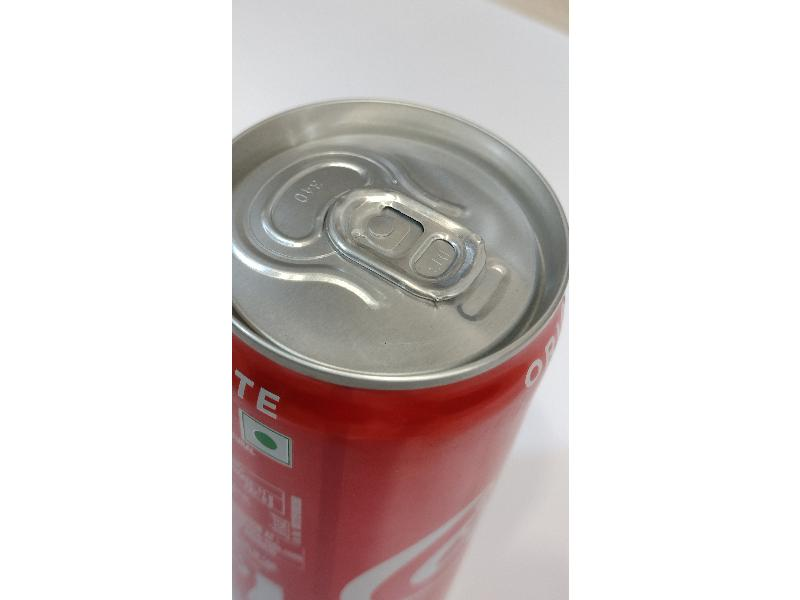can: (236, 96, 570, 555)
